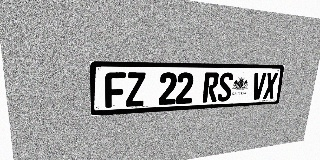2: (159, 72, 177, 105), (176, 72, 194, 104)
F: (105, 72, 126, 108)
R: (202, 72, 219, 103)
S: (217, 72, 234, 102)
V: (251, 72, 266, 100)
X: (263, 72, 278, 99)
Z: (126, 72, 145, 107)
